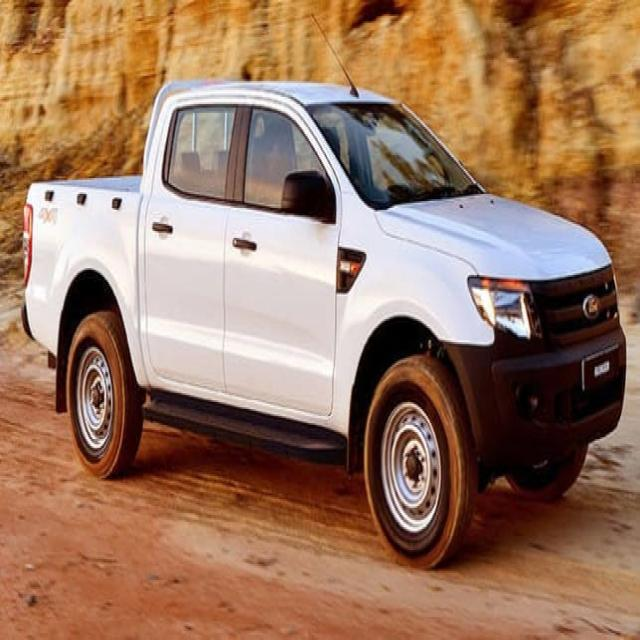light_vehicle: (19, 60, 639, 591)
